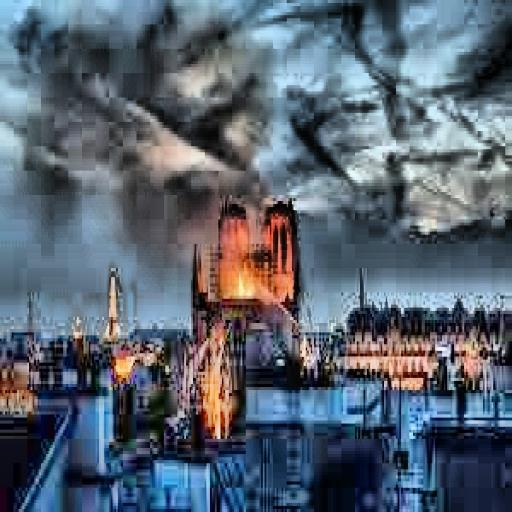fire: (224, 256, 260, 305)
